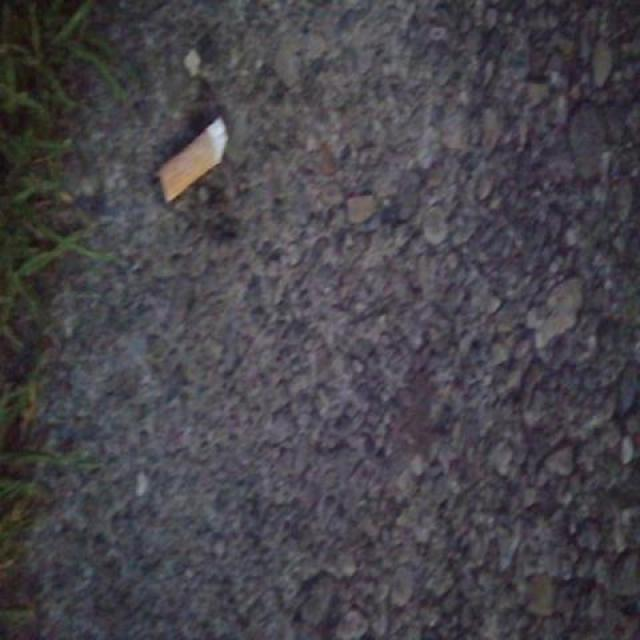non-organic waste: (153, 112, 231, 208)
